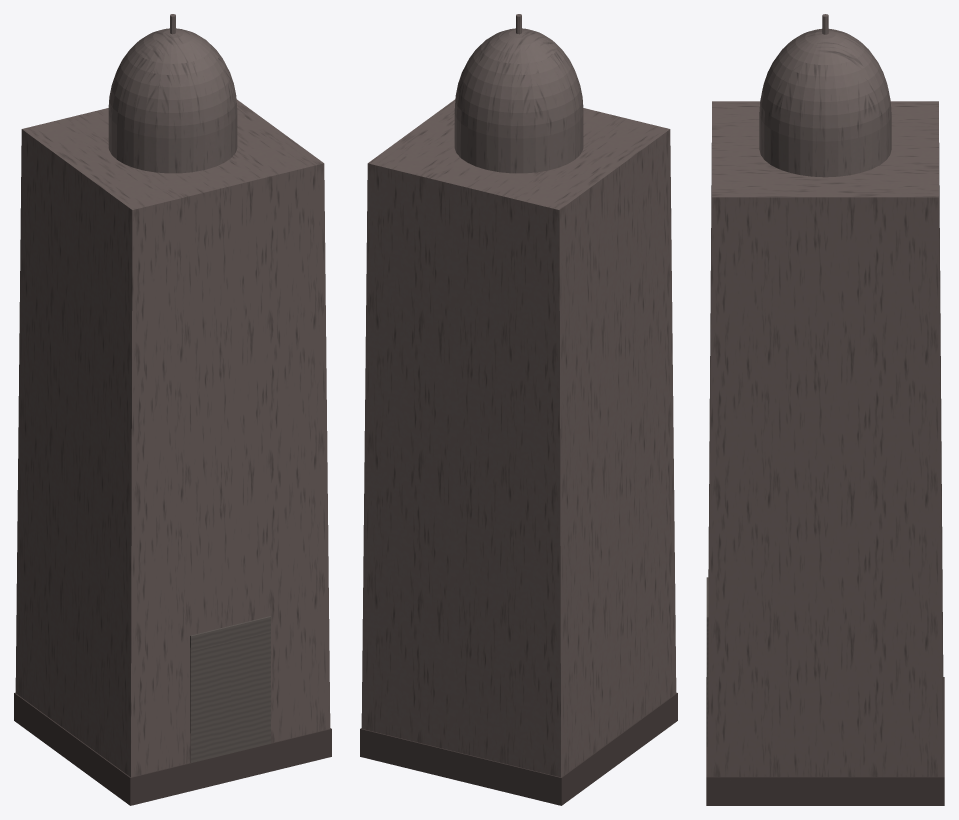
Rendered from SM_Souq_Warehouse_W3D30_Dome.fbx.
3 renders of one model, left to right at view 1: azimuth 30°, elevation 25°; view 2: azimuth 150°, elevation 25°; view 3: azimuth 270°, elevation 25°, orthographic. The views are drawn at different scales.
Visible parts, largest first — view 1: SM_Souq_Warehouse_W3D30_Dome; view 2: SM_Souq_Warehouse_W3D30_Dome; view 3: SM_Souq_Warehouse_W3D30_Dome.
Boxes of the visible parts, box(x1,y1,x2,y2) form: SM_Souq_Warehouse_W3D30_Dome: box(14, 14, 331, 805); SM_Souq_Warehouse_W3D30_Dome: box(360, 14, 677, 805); SM_Souq_Warehouse_W3D30_Dome: box(706, 14, 944, 805).
Bounding box in the file's own units: 302 × 1038 × 302.
4 materials, 4 textured.
